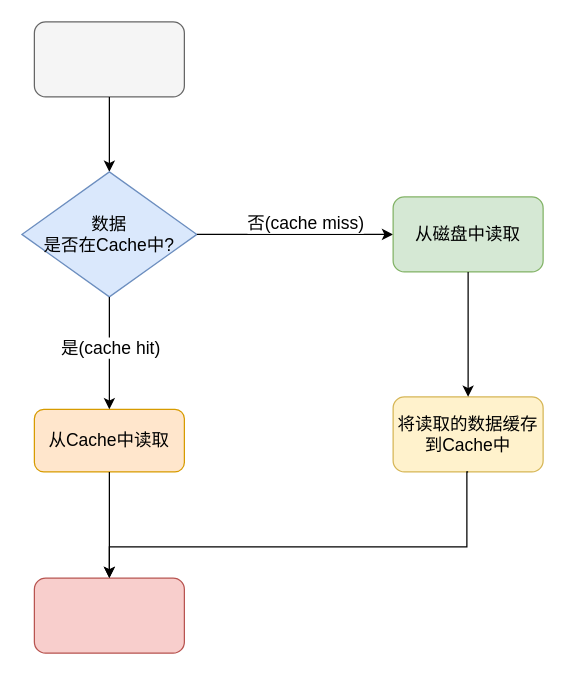
The diagram is 565 pixels wide and 675 high, and some of its shapes have lost their labels. The shapes that lost their labels are listed below. From the top down, each one's centre as x and y in pixels, then its label:
At point 108,59: "read() 读文件".
At point 108,615: "结束".
